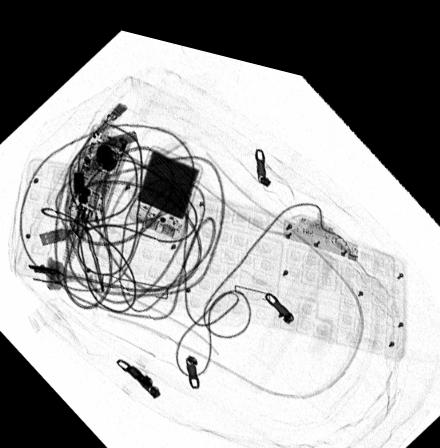Powerbank: (127, 137, 203, 231)
